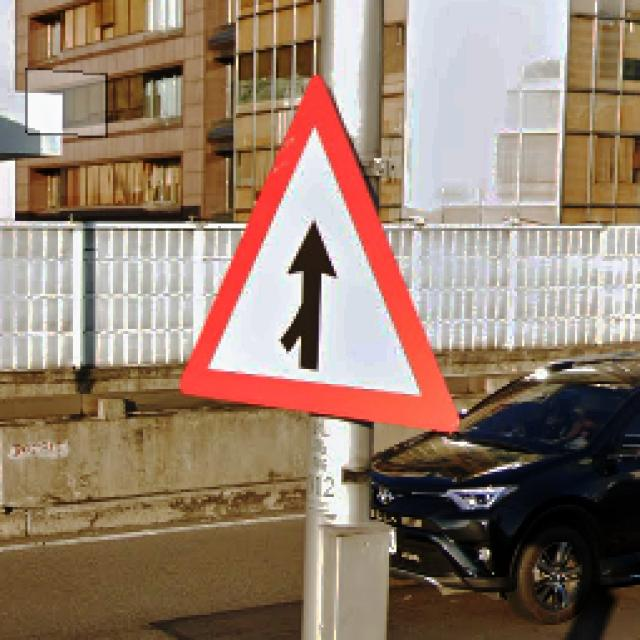leftmerge: (178, 75, 459, 434)
